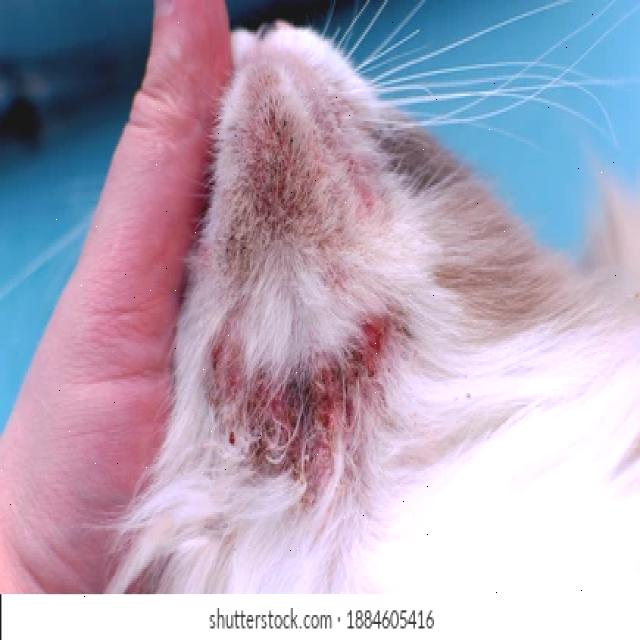cat-ringworm: (210, 334, 395, 476), (246, 106, 296, 228), (342, 147, 374, 220)
